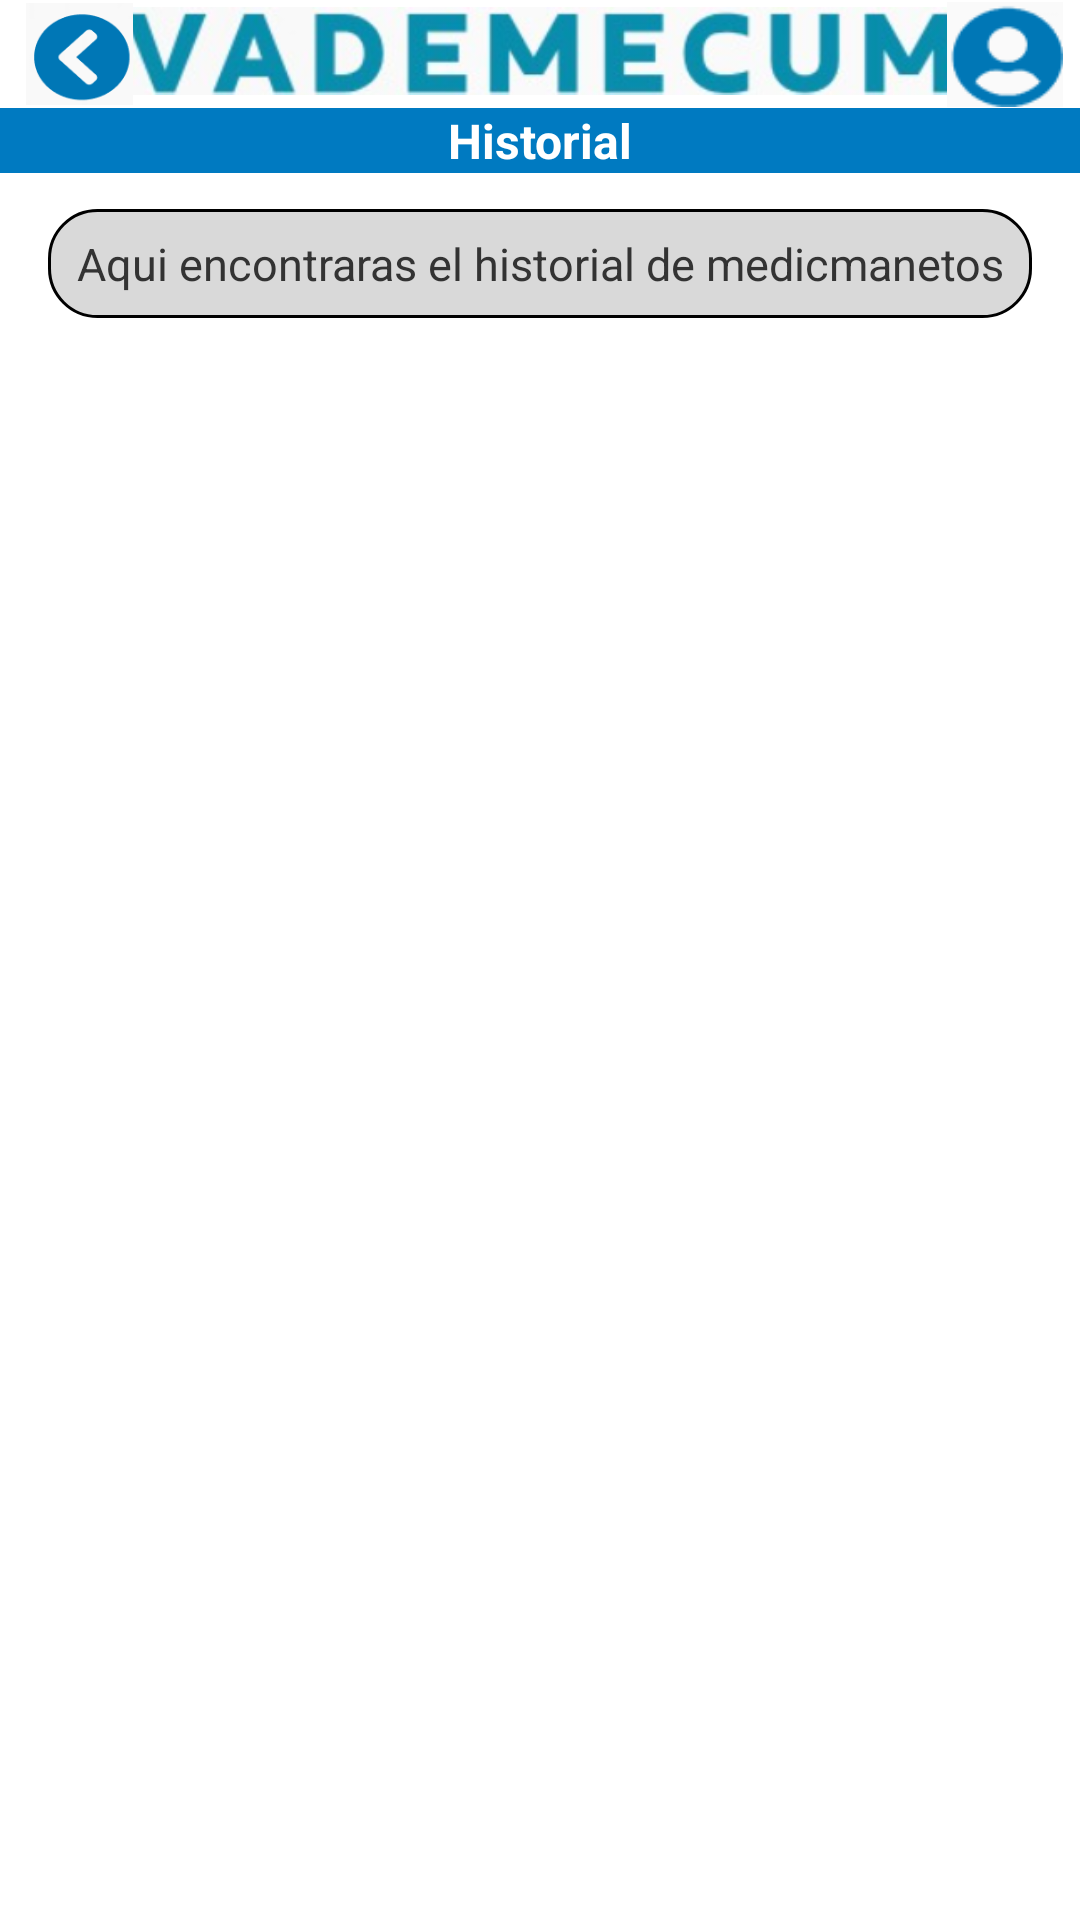

Point at icon controls on the screen. Image size 1080*1920, points as (x,y).
imgatras: (82,57)
imgusuario: (1005,54)
